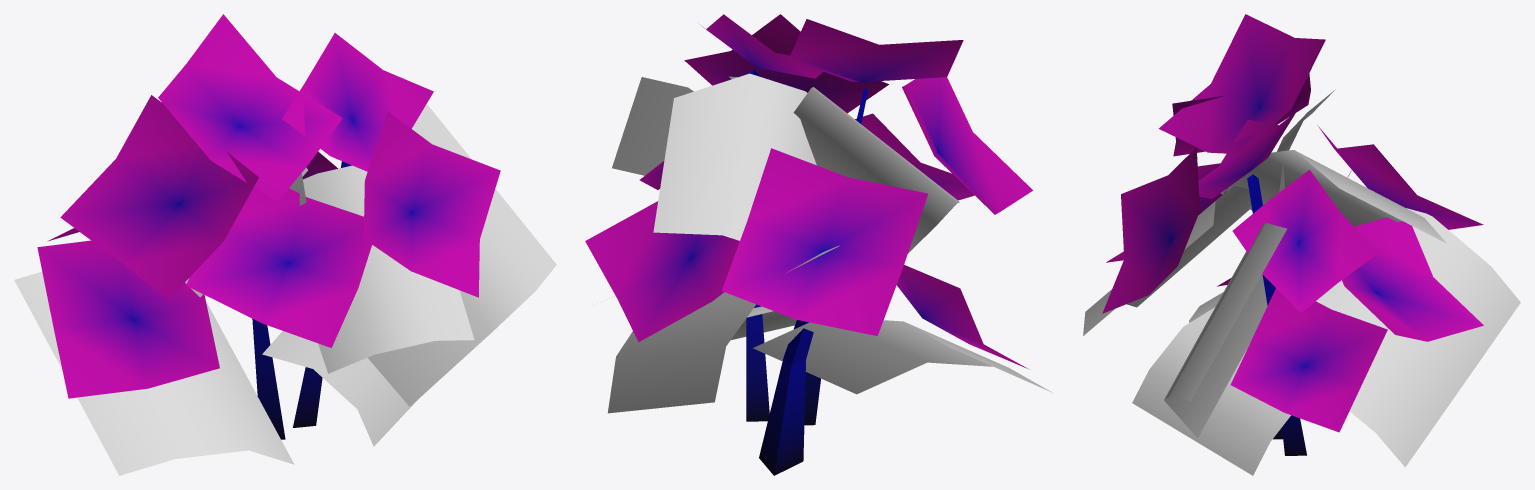
File: Flower_04.fbx
The picture shows the model from 3 angles, left to right: view 1: azimuth 30°, elevation 25°; view 2: azimuth 150°, elevation 25°; view 3: azimuth 270°, elevation 25°; orthographic projection. The views are drawn at different scales.
Visible parts, largest first — view 1: Flower_04; view 2: Flower_04; view 3: Flower_04.
Part boxes in pixels (x1=…): Flower_04: x1=14, y1=14, x2=556, y2=475; Flower_04: x1=585, y1=14, x2=1052, y2=475; Flower_04: x1=1083, y1=14, x2=1520, y2=475.
Bounding box in the file's own units: 0.3787 × 0.3357 × 0.3455.
